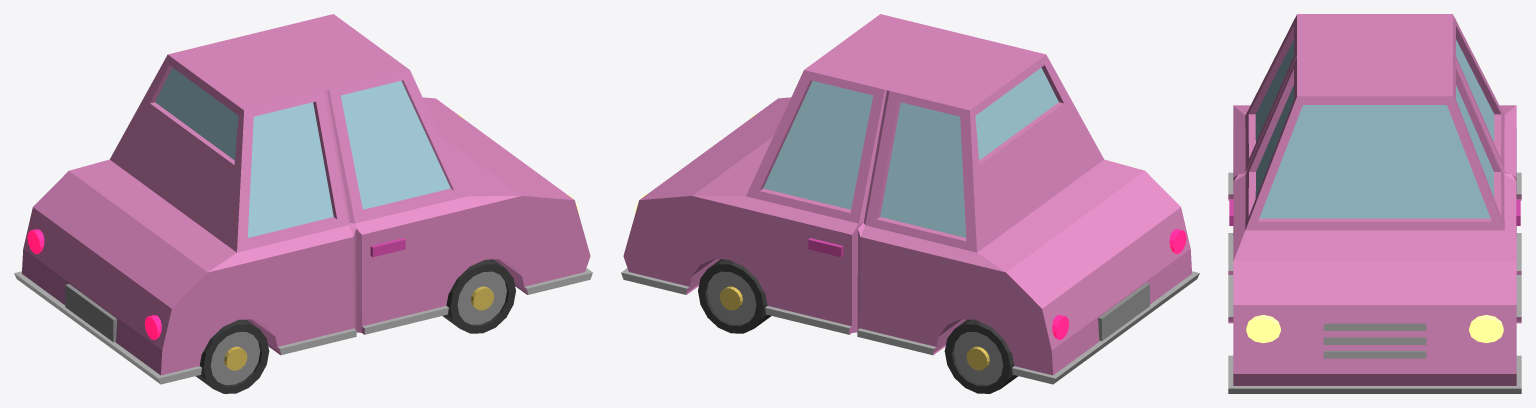
Rendered from 2_car_pink.fbx.
3 views of the same model, side by side, from view 1: azimuth 30°, elevation 25°; view 2: azimuth 150°, elevation 25°; view 3: azimuth 270°, elevation 25° (orthographic).
Parts seen in each view (by area): view 1: Cube, Cylinder, Cube.002, Cylinder.009; view 2: Cube, Cylinder, Cube.002, Cylinder.009; view 3: Cube, Cube.001, Cylinder.008, Cube.003.
Boxes of the visible parts, <box> form: Cube: <box>14,14,592,384</box>; Cylinder: <box>195,259,515,393</box>; Cube.002: <box>65,284,117,341</box>; Cylinder.009: <box>27,229,161,339</box>; Cube: <box>621,14,1199,384</box>; Cylinder: <box>698,259,1018,393</box>; Cube.002: <box>1098,283,1149,340</box>; Cylinder.009: <box>1052,229,1186,339</box>; Cube: <box>1228,14,1521,393</box>; Cube.001: <box>1323,323,1426,358</box>; Cylinder.008: <box>1246,315,1503,343</box>; Cube.003: <box>1229,199,1520,225</box>.
Size of the model in its own units: 102 by 56.41 by 58.34.
